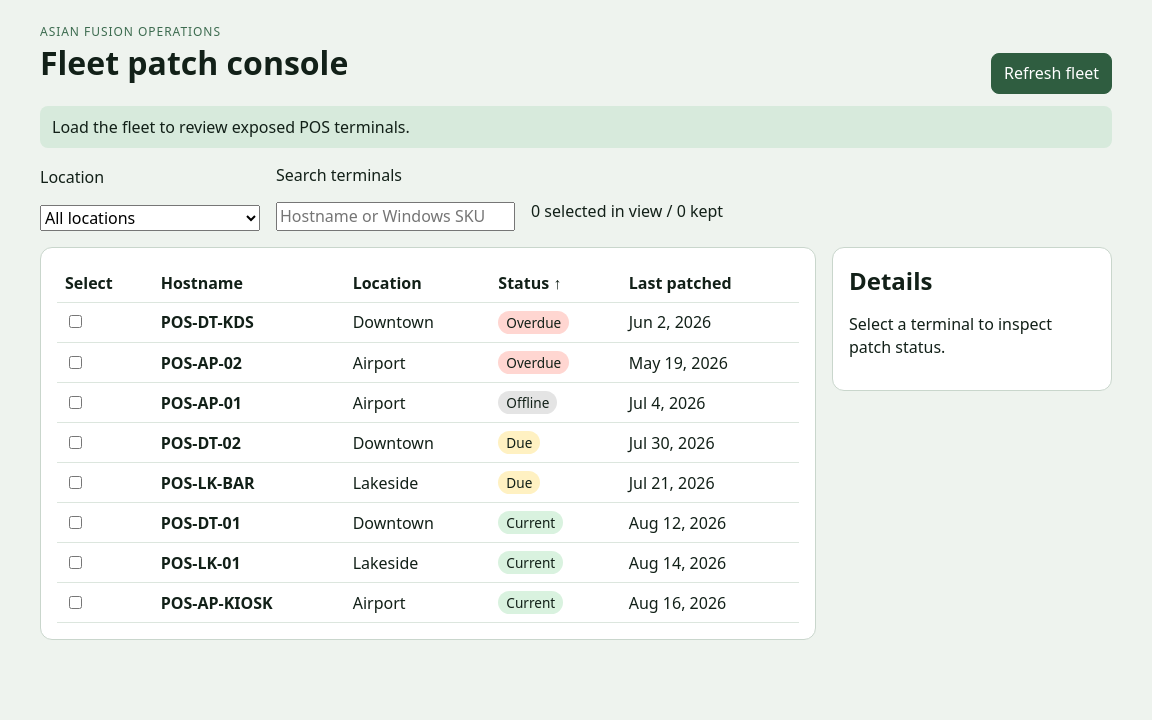
Test: Fusion fleet console › queues a patch from the detail panel
Click the column heading "POS-DT-02".
click(249, 443)  # box [153,423,345,463]
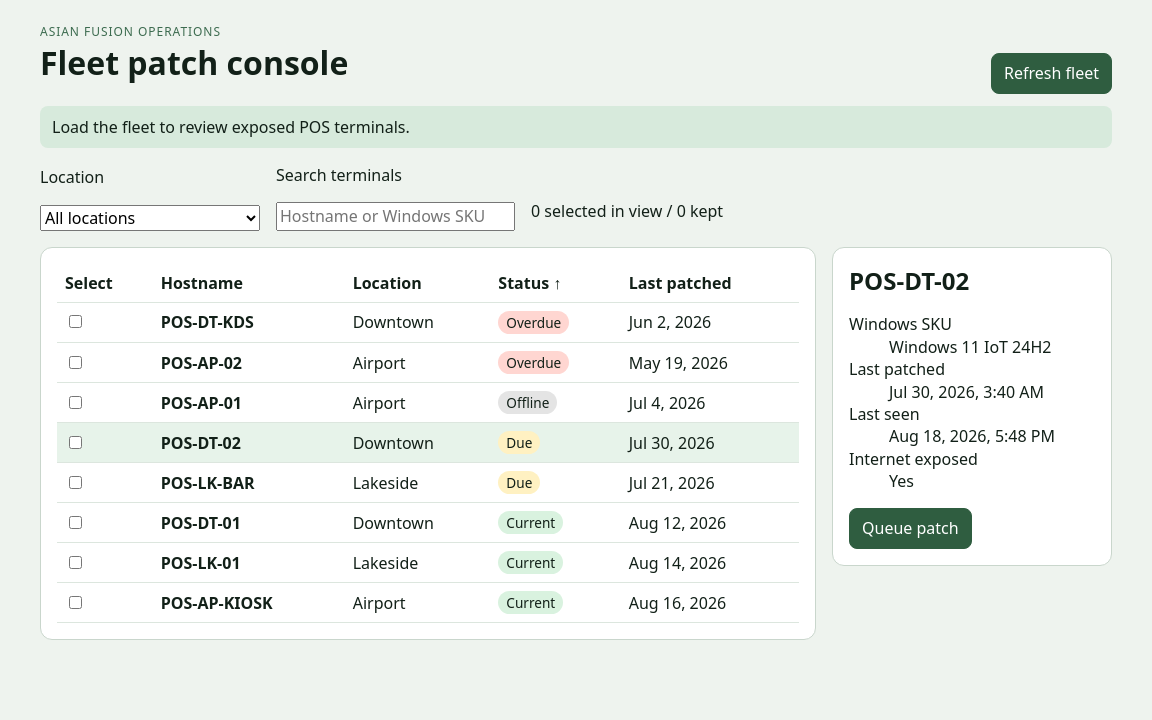
Click the button "Queue patch".
click(910, 529)  # box [849,508,972,549]
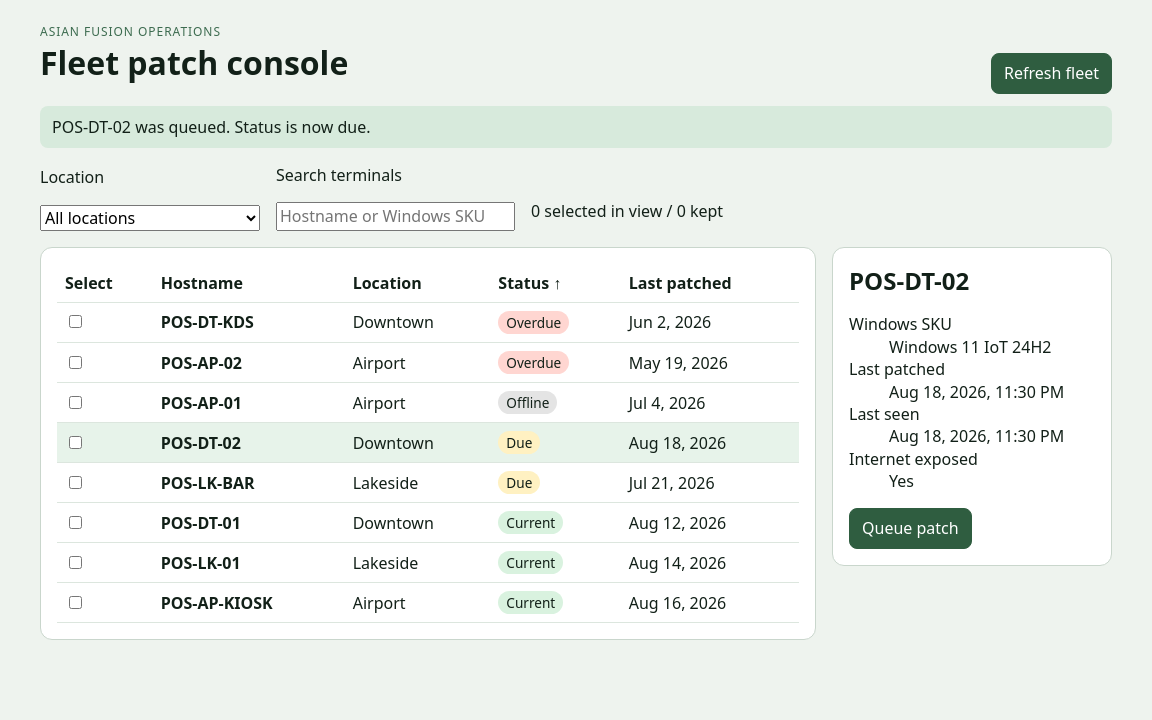
Expected: the text "POS-DT-02 was queued. Status is now due." is shown, [40,106,1112,148]
